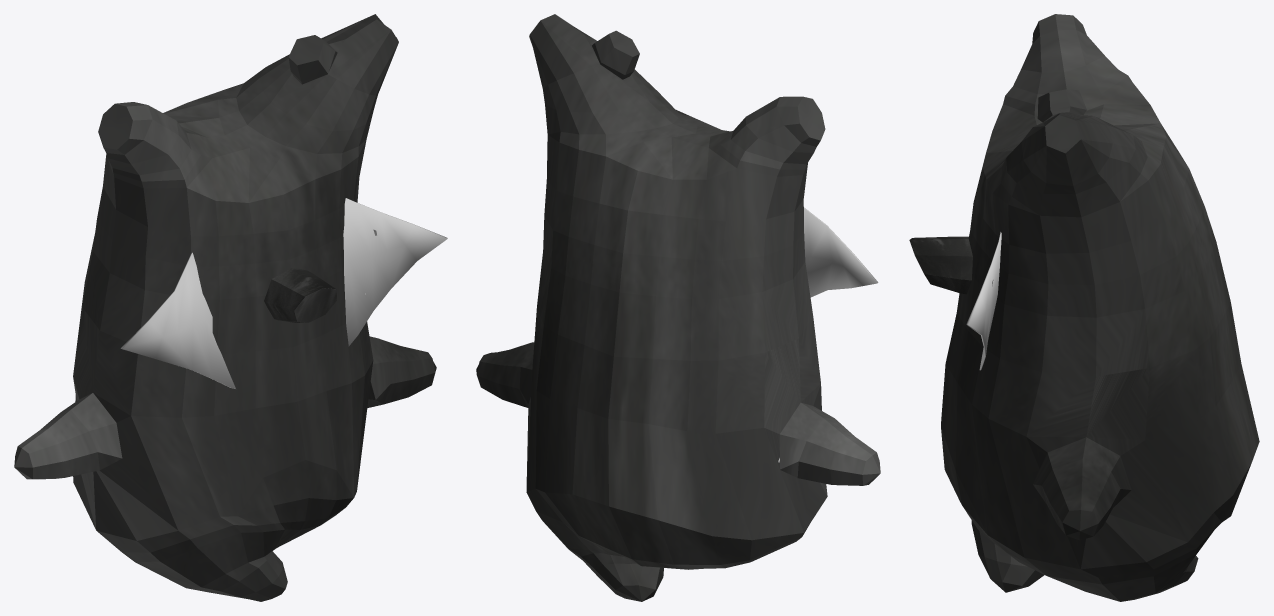
Rendered from frame_0023.obj.
The picture shows the model from 3 angles, left to right: view 1: azimuth 30°, elevation 25°; view 2: azimuth 150°, elevation 25°; view 3: azimuth 270°, elevation 25°; orthographic projection. The views are drawn at different scales.
Parts seen in each view (by area): view 1: korok, leaf, nose; view 2: korok, leaf; view 3: korok, nose, leaf.
Part boxes in pixels (x1=…): korok: x1=14, y1=14, x2=436, y2=601; leaf: x1=121, y1=198, x2=447, y2=388; nose: x1=264, y1=268, x2=336, y2=322; korok: x1=476, y1=14, x2=880, y2=601; leaf: x1=804, y1=207, x2=878, y2=297; korok: x1=941, y1=14, x2=1259, y2=601; nose: x1=909, y1=236, x2=972, y2=294; leaf: x1=966, y1=232, x2=1001, y2=370.
Size of the model in its own units: 1.76 by 2.13 by 1.25.
